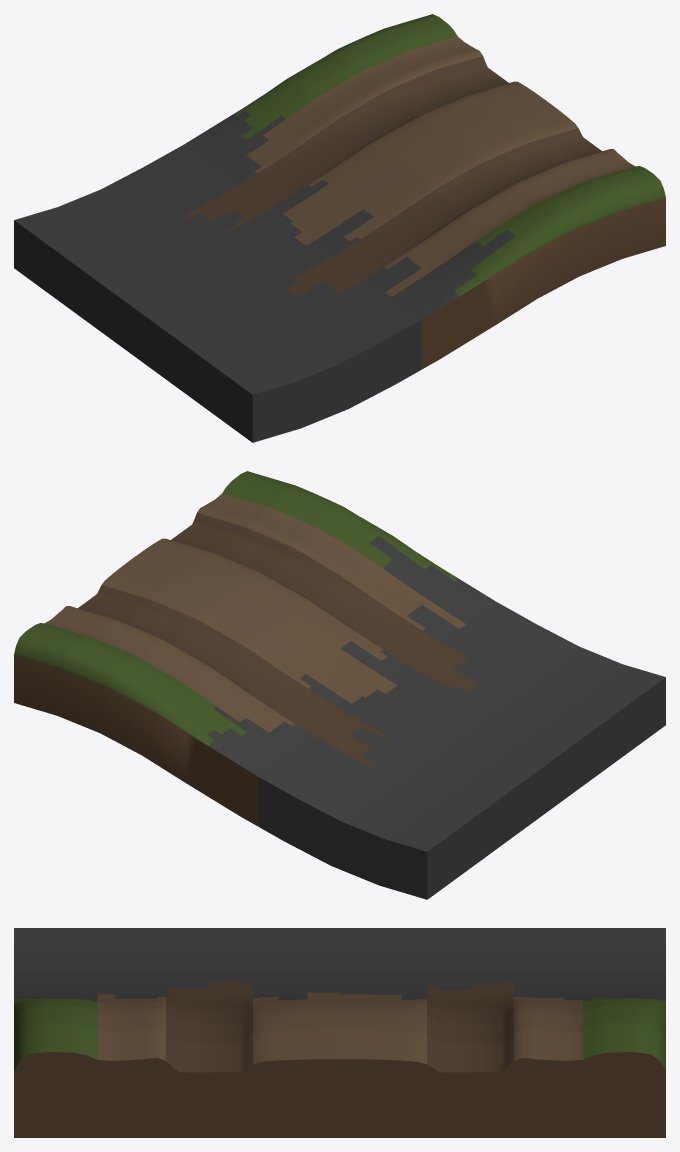
3 renders of one model, top to bottom at view 1: azimuth 30°, elevation 25°; view 2: azimuth 150°, elevation 25°; view 3: azimuth 270°, elevation 25°, orthographic. The views are drawn at different scales.
Parts seen in each view (by area): view 1: c1u; view 2: c1u; view 3: c1u.
Boxes of the visible parts, x1=… form: c1u: x1=14, y1=14, x2=665, y2=442; c1u: x1=14, y1=471, x2=665, y2=899; c1u: x1=14, y1=928, x2=665, y2=1137.
Bounding box in the file's own units: 9 × 3.31 × 9.
